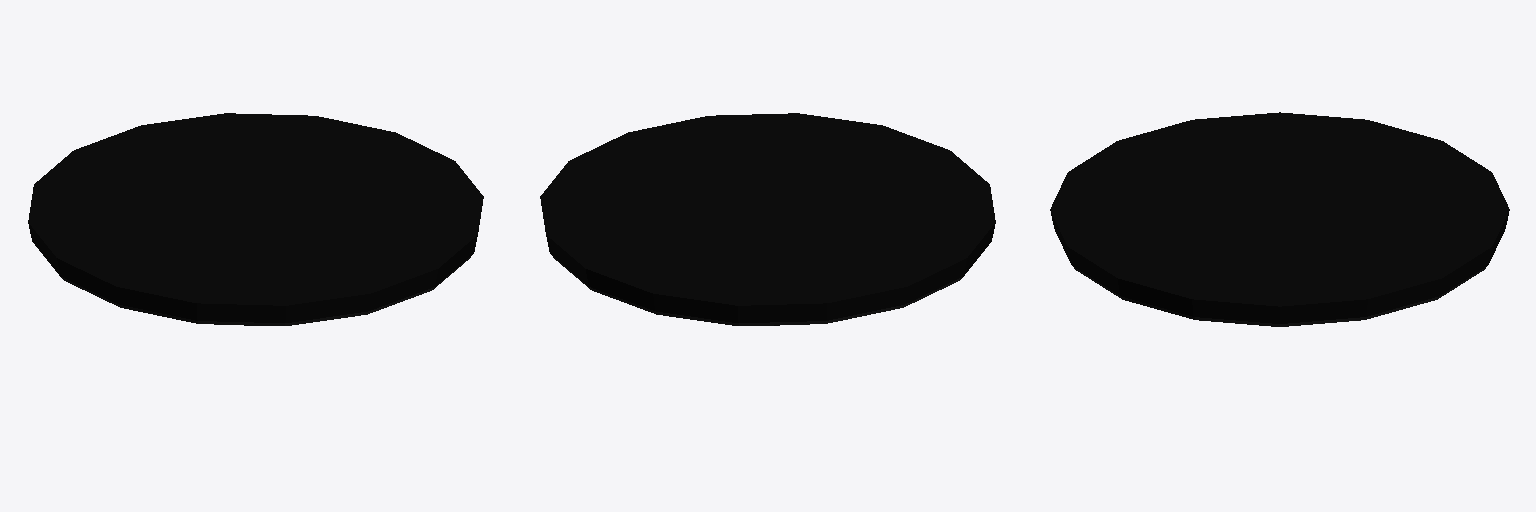
Rendered from IKEA.ART.20317852.obj.
3 views of the same model, side by side, from view 1: azimuth 30°, elevation 25°; view 2: azimuth 150°, elevation 25°; view 3: azimuth 270°, elevation 25° (orthographic).
Visible parts, largest first — view 1: model_model.013; view 2: model_model.013; view 3: model_model.013.
Boxes of the visible parts, box(x1,y1,x2,y2) form: model_model.013: box(28, 113, 483, 325); model_model.013: box(540, 113, 995, 325); model_model.013: box(1050, 112, 1509, 326).
Bounding box in the file's own units: 0.7727 × 0.1956 × 0.7727.